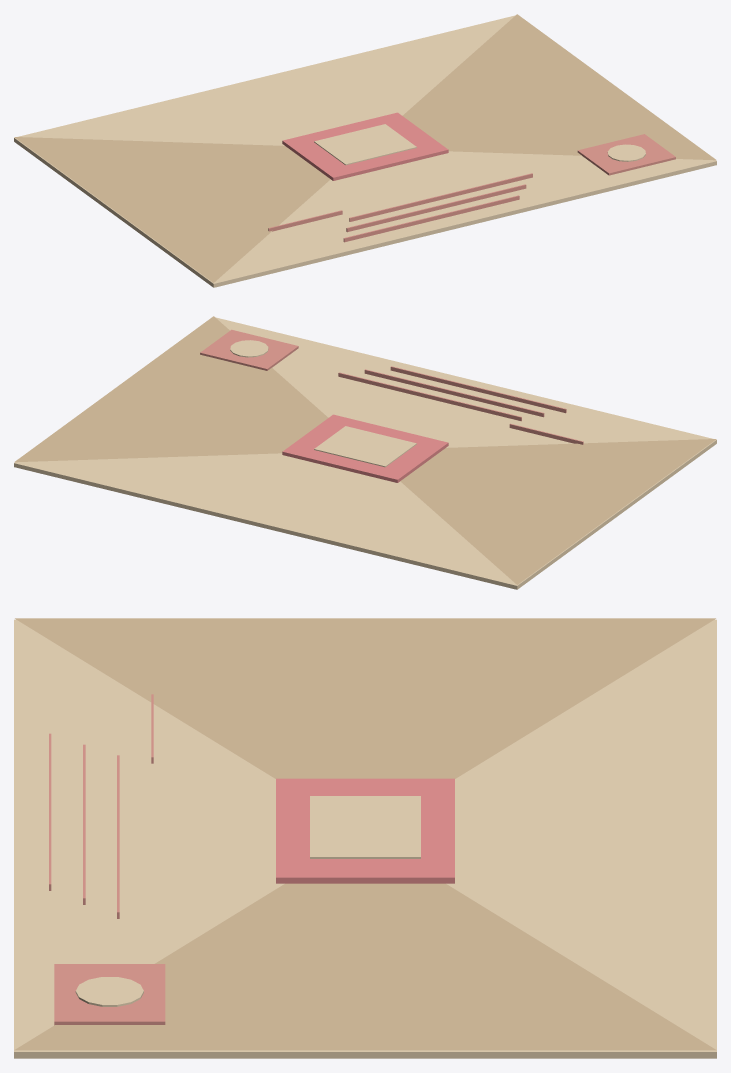
File: item_89_large_envelope.glb
3 views of the same model, one above another, from view 1: azimuth 30°, elevation 25°; view 2: azimuth 150°, elevation 25°; view 3: azimuth 270°, elevation 25° (orthographic). The views are drawn at different scales.
Parts seen in each view (by area): view 1: I89_Env, I89_XFlap0, I89_XFlap1, I89_Seal, I89_SealIn, I89_Stamp, I89_Line1, I89_Line2, I89_Line3, I89_StampIn; view 2: I89_Env, I89_XFlap0, I89_XFlap1, I89_Seal, I89_SealIn, I89_Stamp, I89_Line1, I89_Line2, I89_Line3, I89_StampIn; view 3: I89_Env, I89_XFlap0, I89_XFlap1, I89_Seal, I89_SealIn, I89_Stamp, I89_StampIn.
Boxes of the visible parts, left/top/right/bottom form: I89_Env: left=14, top=15, right=716, bottom=287; I89_XFlap0: left=14, top=137, right=330, bottom=282; I89_XFlap1: left=402, top=14, right=716, bottom=160; I89_Seal: left=282, top=112, right=448, bottom=180; I89_SealIn: left=314, top=124, right=416, bottom=165; I89_Stamp: left=577, top=134, right=675, bottom=175; I89_Line1: left=349, top=173, right=532, bottom=221; I89_Line2: left=346, top=184, right=526, bottom=232; I89_Line3: left=343, top=195, right=519, bottom=242; I89_StampIn: left=607, top=144, right=645, bottom=161; I89_Env: left=14, top=317, right=716, bottom=589; I89_XFlap0: left=400, top=439, right=716, bottom=584; I89_XFlap1: left=14, top=316, right=328, bottom=462; I89_Seal: left=282, top=414, right=448, bottom=482; I89_SealIn: left=314, top=426, right=416, bottom=467; I89_Stamp: left=200, top=329, right=298, bottom=370; I89_Line1: left=338, top=372, right=521, bottom=421; I89_Line2: left=364, top=369, right=544, bottom=417; I89_Line3: left=390, top=366, right=566, bottom=413; I89_StampIn: left=230, top=340, right=268, bottom=357; I89_Env: left=14, top=619, right=716, bottom=1058; I89_XFlap0: left=15, top=618, right=715, bottom=778; I89_XFlap1: left=14, top=883, right=716, bottom=1050; I89_Seal: left=276, top=778, right=454, bottom=883; I89_SealIn: left=310, top=796, right=420, bottom=858; I89_Stamp: left=54, top=964, right=165, bottom=1025; I89_StampIn: left=75, top=977, right=143, bottom=1006.
Size of the model in its own units: 0.24 by 0.0042 by 0.165.
